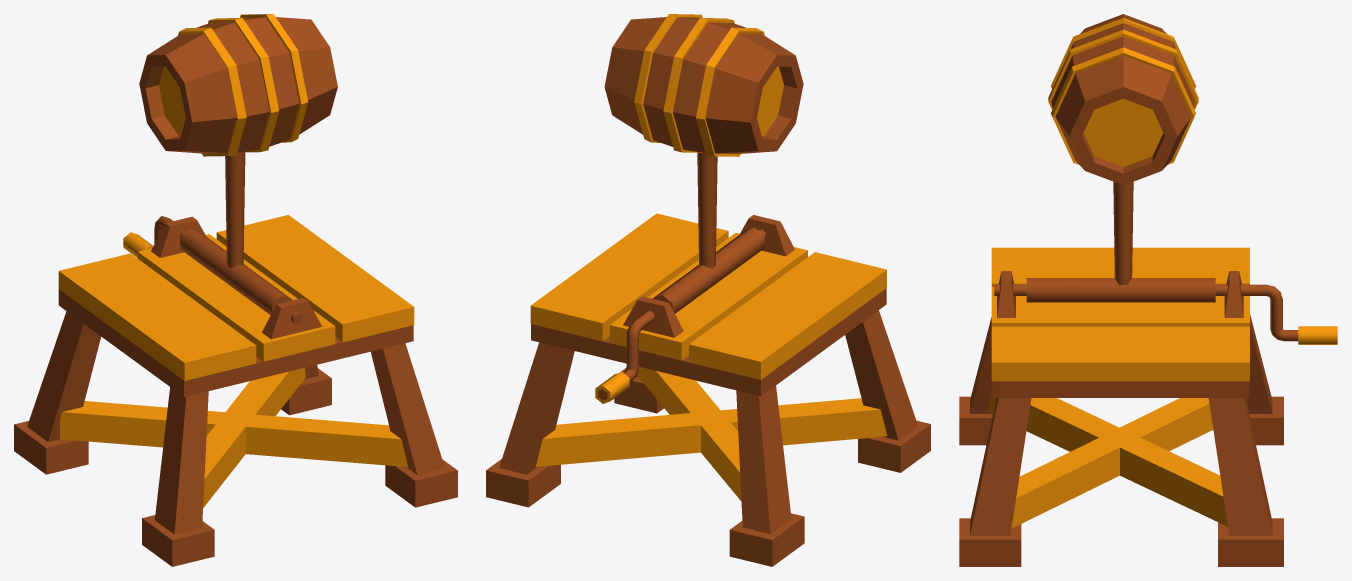
The model's file is hammer.fbx.
3 renders of one model, left to right at view 1: azimuth 30°, elevation 25°; view 2: azimuth 150°, elevation 25°; view 3: azimuth 270°, elevation 25°, orthographic. The views are drawn at different scales.
Visible parts, largest first — view 1: hammer, hammer02, hammer01; view 2: hammer, hammer02, hammer01; view 3: hammer, hammer02, hammer01.
Boxes of the visible parts, box(x1,y1,x2,y2) form: hammer: box(14, 215, 457, 566); hammer02: box(139, 14, 337, 324); hammer01: box(123, 216, 186, 257); hammer: box(486, 213, 930, 566); hammer02: box(604, 14, 803, 313); hammer01: box(595, 310, 654, 403); hammer: box(959, 247, 1283, 566); hammer02: box(994, 14, 1215, 302); hammer01: box(1215, 284, 1337, 344).
Size of the model in its own units: 2.62 by 3.98 by 2.93.
